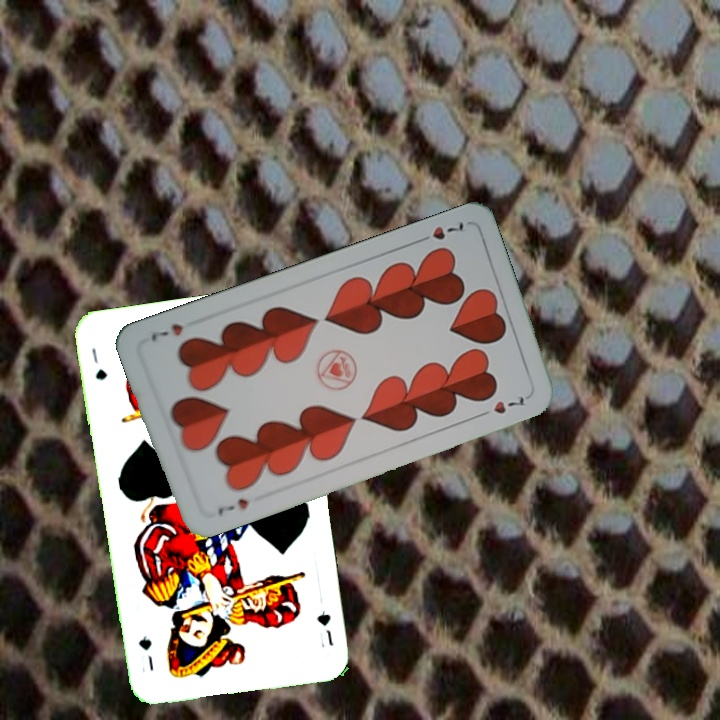GU: (313, 607, 336, 651), (87, 344, 109, 383)
H7: (412, 218, 467, 246), (214, 494, 251, 520)
